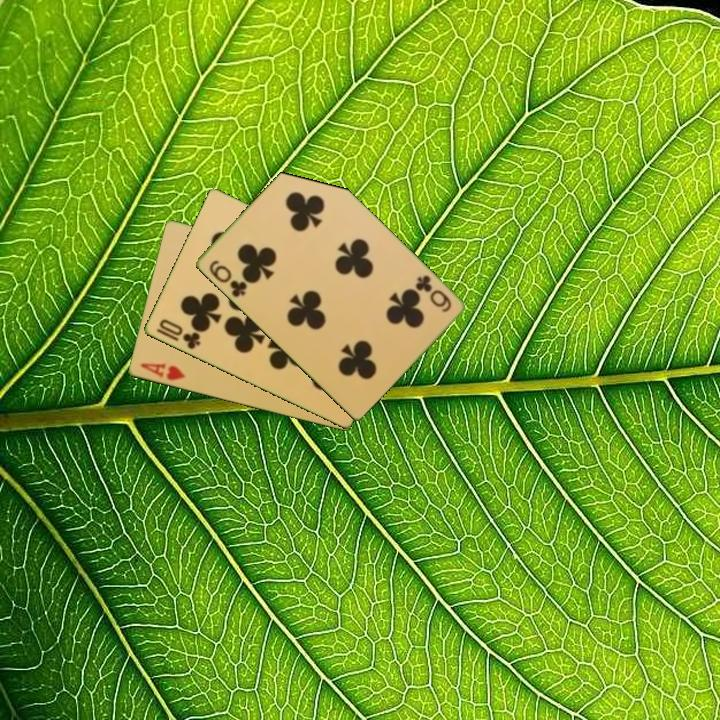10c: (155, 315, 203, 352)
6c: (205, 256, 250, 300), (411, 271, 454, 315)
Ah: (136, 360, 188, 384)
